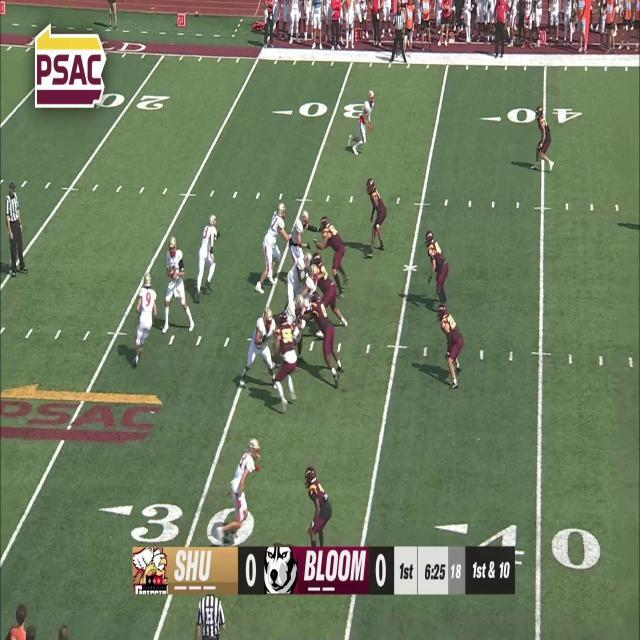football: (168, 268, 176, 280)
